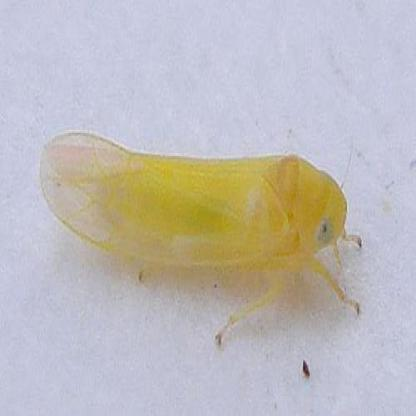green-leafhopper: (40, 128, 354, 290)
